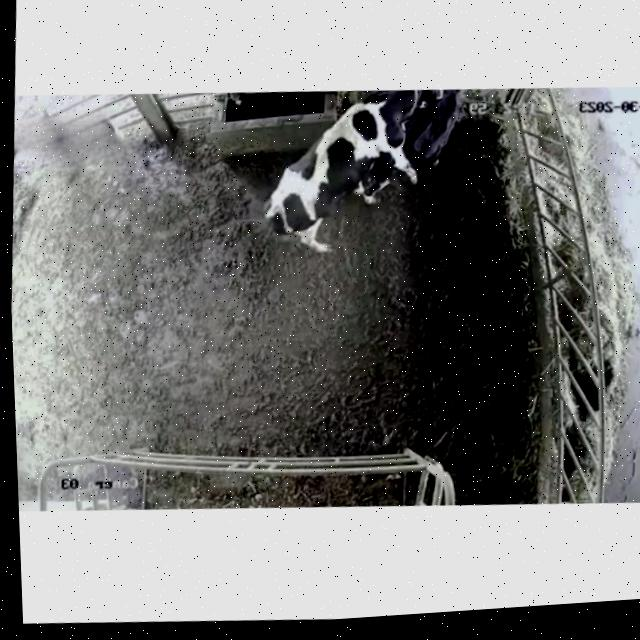ride: (254, 80, 450, 276)
stand: (403, 85, 478, 187)
